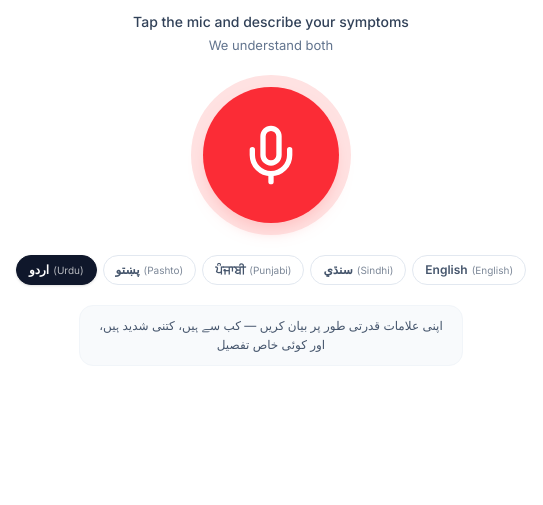
Test case: <VoiceRecorder> › handles microphone permission error gracefully
Click the button named "Start recording": (271, 155) [191,75,351,235]
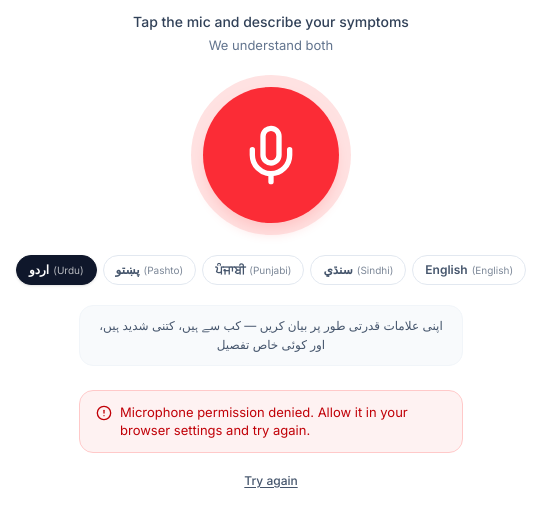
Expected: the text "Microphone permission denied" is shown, [120,404,408,438]
